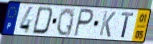4: (17, 5, 35, 35)
D: (31, 6, 55, 36)
K: (98, 10, 117, 39)
P: (72, 8, 95, 38)
Q: (55, 7, 76, 38)
T: (120, 12, 136, 39)
